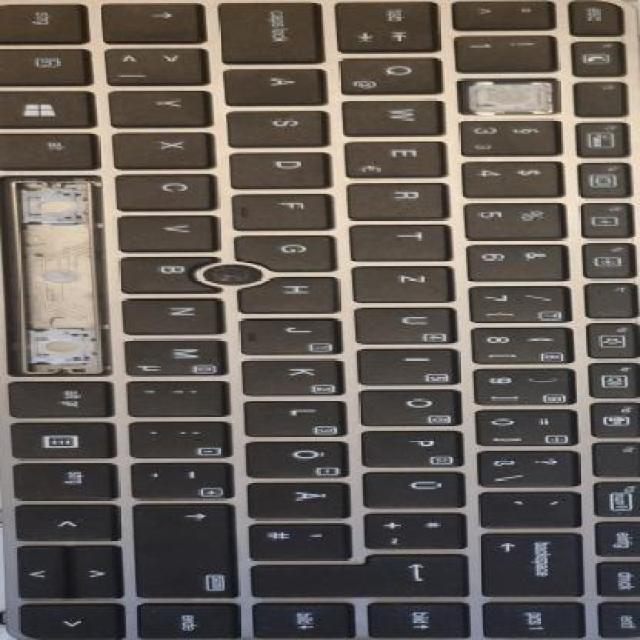Keyboard problems: (2, 178, 105, 374), (463, 82, 555, 114)
